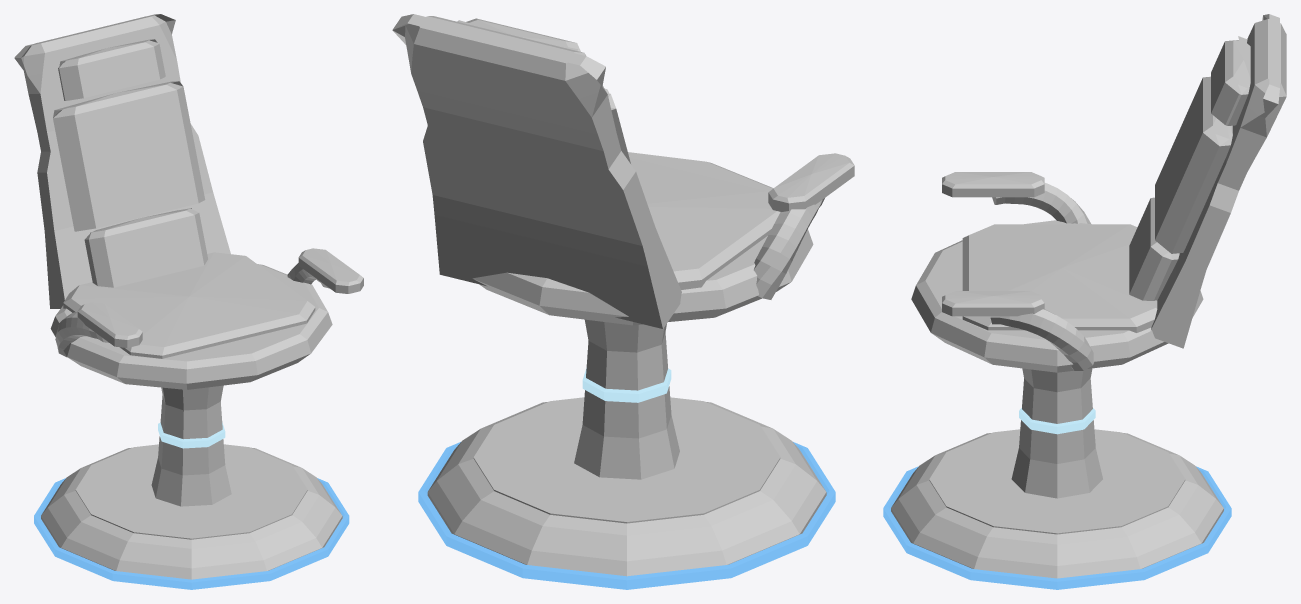
File: futuristic_floating_chair_v4.gltf
The picture shows the model from 3 angles, left to right: view 1: azimuth 30°, elevation 25°; view 2: azimuth 150°, elevation 25°; view 3: azimuth 270°, elevation 25°; orthographic projection. The views are drawn at different scales.
Visible parts, largest first — view 1: BackCushion_Main, SeatCushion, PuckBase, BackRest, PuckTopRing, SeatShell, SupportPost, BackCushion_Lumbar, BackCushion_Head, PuckGlowRim, ArmPad_+1, ArmPad_-1 (+2 smaller); view 2: BackRest, PuckBase, PuckTopRing, SupportPost, SeatCushion, SeatShell, PuckGlowRim, ArmPad_-1, ArmTube_-1, PostGlow, BackCushion_Head; view 3: PuckBase, PuckTopRing, SeatCushion, BackRest, SeatShell, SupportPost, BackCushion_Main, PuckGlowRim, BackCushion_Lumbar, BackCushion_Head, ArmPad_-1, ArmPad_+1 (+3 smaller).
Boxes of the visible parts, x1,y1,x2,y2 form: BackCushion_Main: [53, 81, 205, 231]; SeatCushion: [63, 252, 315, 358]; PuckBase: [41, 447, 342, 579]; BackRest: [14, 14, 230, 308]; PuckTopRing: [75, 444, 307, 539]; SeatShell: [50, 264, 332, 389]; SupportPost: [151, 385, 231, 506]; BackCushion_Lumbar: [84, 208, 207, 287]; BackCushion_Head: [58, 39, 165, 100]; PuckGlowRim: [34, 478, 349, 589]; ArmPad_+1: [298, 248, 363, 293]; ArmPad_-1: [77, 302, 142, 347]; BackRest: [392, 14, 681, 328]; PuckBase: [427, 402, 826, 576]; PuckTopRing: [473, 397, 780, 523]; SupportPost: [574, 319, 679, 479]; SeatCushion: [629, 157, 780, 289]; SeatShell: [472, 152, 813, 325]; PuckGlowRim: [418, 442, 835, 589]; ArmPad_-1: [768, 153, 854, 211]; ArmTube_-1: [753, 198, 824, 299]; PostGlow: [582, 368, 671, 402]; BackCushion_Head: [457, 18, 580, 51]; PuckBase: [891, 433, 1223, 578]; PuckTopRing: [929, 429, 1185, 534]; SeatCushion: [962, 224, 1157, 332]; BackRest: [1151, 14, 1286, 348]; SeatShell: [911, 220, 1203, 372]; SupportPost: [1011, 368, 1102, 498]; BackCushion_Main: [1155, 76, 1232, 253]; PuckGlowRim: [883, 466, 1231, 589]; BackCushion_Lumbar: [1129, 197, 1179, 300]; BackCushion_Head: [1211, 36, 1250, 125]; ArmPad_-1: [942, 172, 1044, 197]; ArmPad_+1: [942, 291, 1044, 316].
Bounding box in the file's own units: 1.36 × 2.02 × 1.58.
